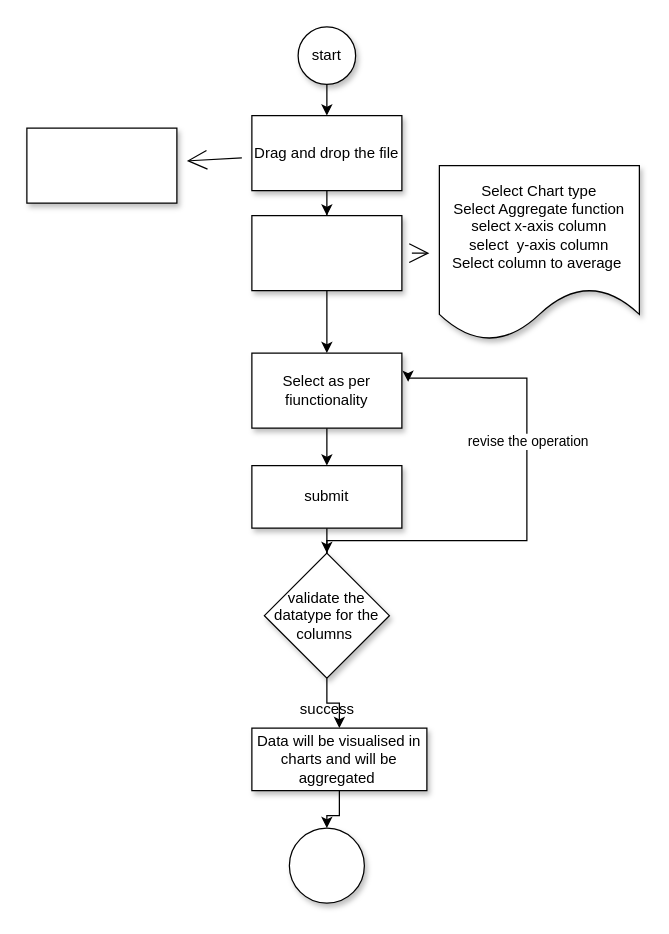
Some shapes in this 669 by 934 pixel diagram are drawn without their labels. The centre of each missing label's shape, as x and y in pixels:
"Already existing excel file being read" goes at pixel 102 167.
"choose an operation from side bar panel" goes at pixel 327 254.
"end" goes at pixel 327 867.
